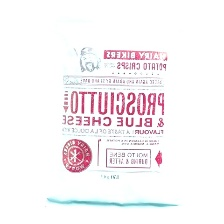snack: (37, 5, 195, 218)
